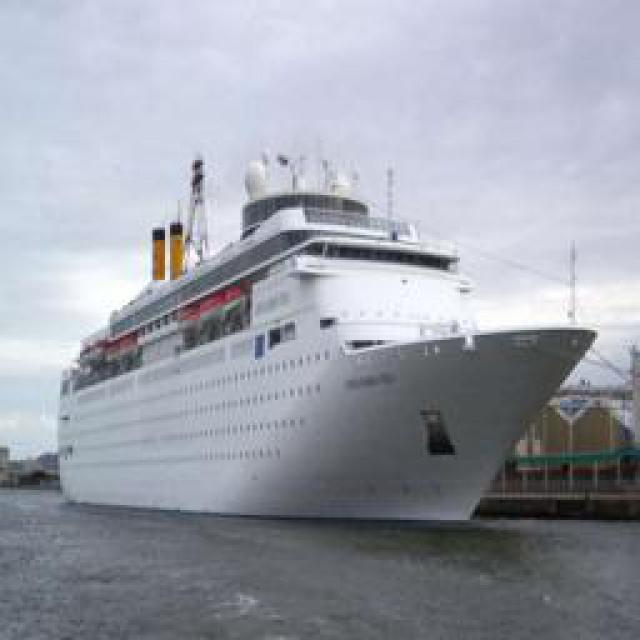Ship: (57, 150, 595, 520)
